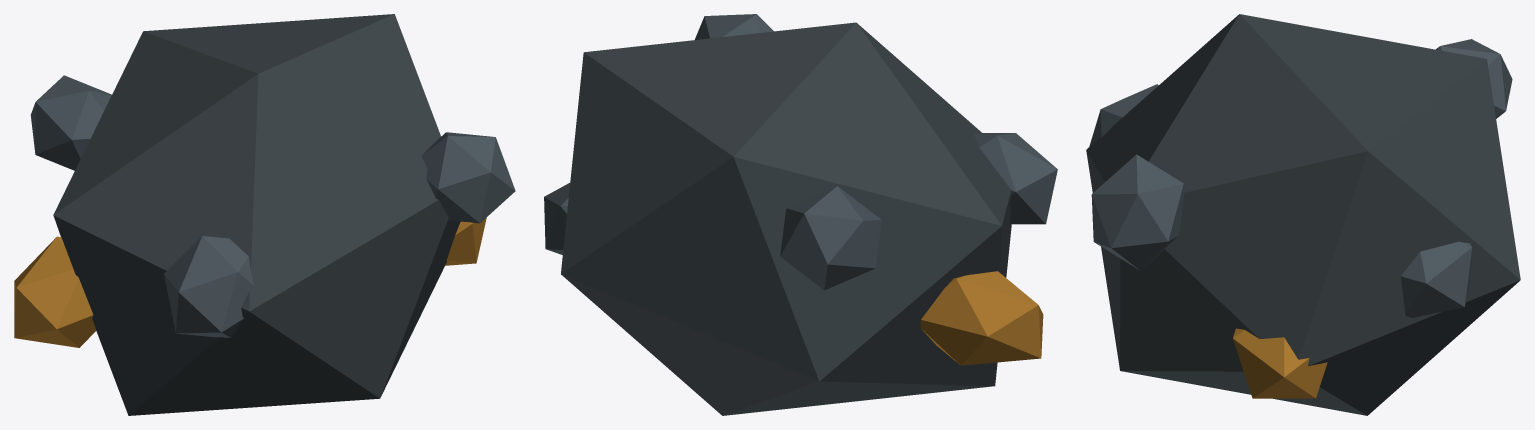
The model's file is pickup_iron_ore.glb.
The picture shows the model from 3 angles, left to right: view 1: azimuth 30°, elevation 25°; view 2: azimuth 150°, elevation 25°; view 3: azimuth 270°, elevation 25°; orthographic projection. The views are drawn at different scales.
Parts seen in each view (by area): view 1: Ore_Rock, Ore_Seam_5, Ore_Seam_4, Ore_Seam_6, Ore_Seam_3, Ore_Seam_1; view 2: Ore_Rock, Ore_Seam_4, Ore_Seam_3, Ore_Seam_5, Ore_Seam_6, Ore_Seam_2; view 3: Ore_Rock, Ore_Seam_6, Ore_Seam_1, Ore_Seam_2, Ore_Seam_3, Ore_Seam_5.
Part boxes in pixels (x1=…): Ore_Rock: x1=53, y1=14, x2=460, y2=415; Ore_Seam_5: x1=164, y1=236, x2=253, y2=337; Ore_Seam_4: x1=14, y1=236, x2=96, y2=347; Ore_Seam_6: x1=421, y1=132, x2=515, y2=223; Ore_Seam_3: x1=30, y1=75, x2=111, y2=170; Ore_Seam_1: x1=445, y1=218, x2=486, y2=265; Ore_Rock: x1=561, y1=22, x2=1011, y2=415; Ore_Seam_4: x1=920, y1=271, x2=1043, y2=365; Ore_Seam_3: x1=780, y1=186, x2=881, y2=290; Ore_Seam_5: x1=974, y1=133, x2=1057, y2=224; Ore_Seam_6: x1=695, y1=14, x2=773, y2=39; Ore_Seam_2: x1=544, y1=183, x2=569, y2=254; Ore_Rock: x1=1086, y1=14, x2=1520, y2=415; Ore_Seam_6: x1=1091, y1=154, x2=1184, y2=270; Ore_Seam_1: x1=1233, y1=328, x2=1327, y2=398; Ore_Seam_2: x1=1401, y1=241, x2=1472, y2=317; Ore_Seam_3: x1=1436, y1=39, x2=1512, y2=118; Ore_Seam_5: x1=1089, y1=84, x2=1158, y2=146.
Size of the model in its own units: 0.1603 by 0.1142 by 0.1225.
